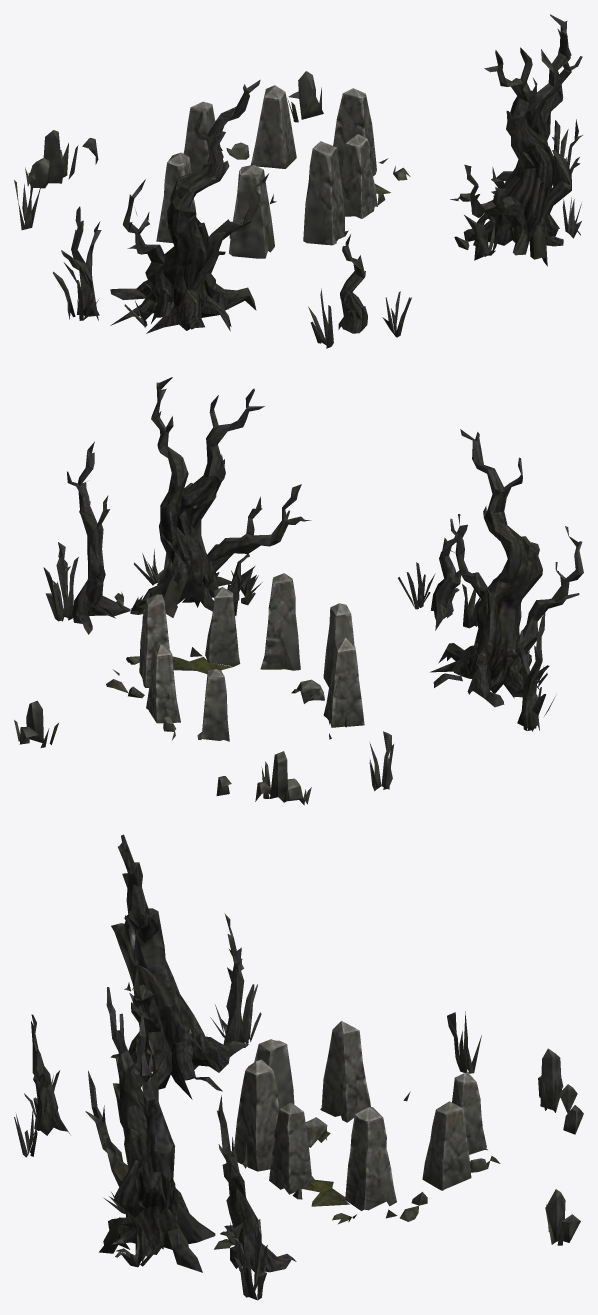
File: fen.glb
3 renders of one model, top to bottom at view 1: azimuth 30°, elevation 25°; view 2: azimuth 150°, elevation 25°; view 3: azimuth 270°, elevation 25°, orthographic. The views are drawn at different scales.
Size of the model in its own units: 2.14 by 0.9644 by 1.88.
1 material, 1 textured.
